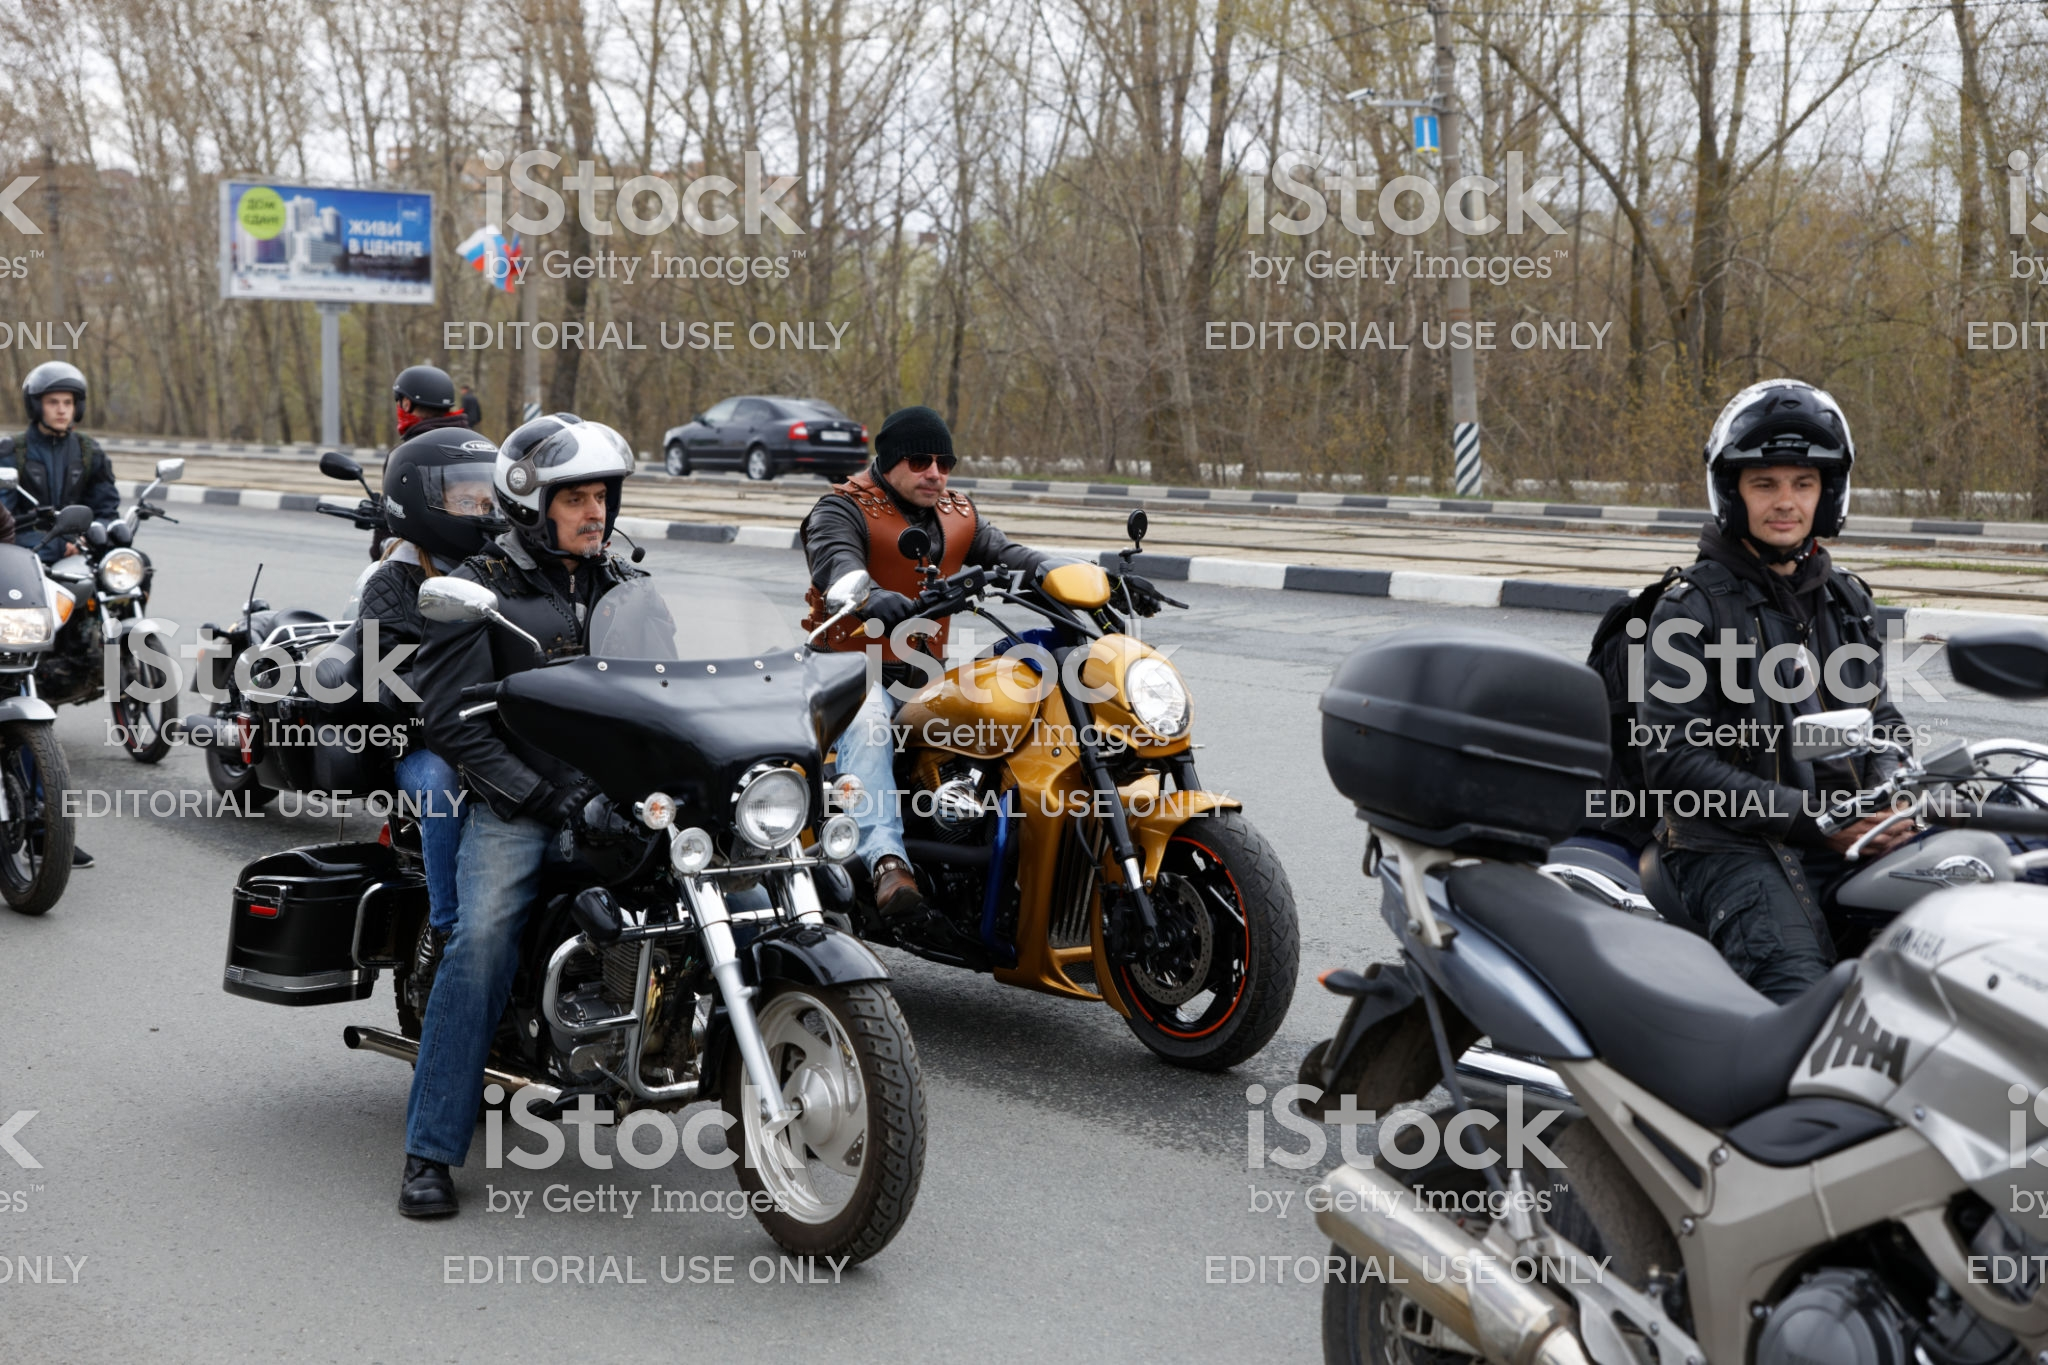helmet: (1702, 373, 1867, 536), (493, 425, 644, 568), (381, 433, 504, 544)
